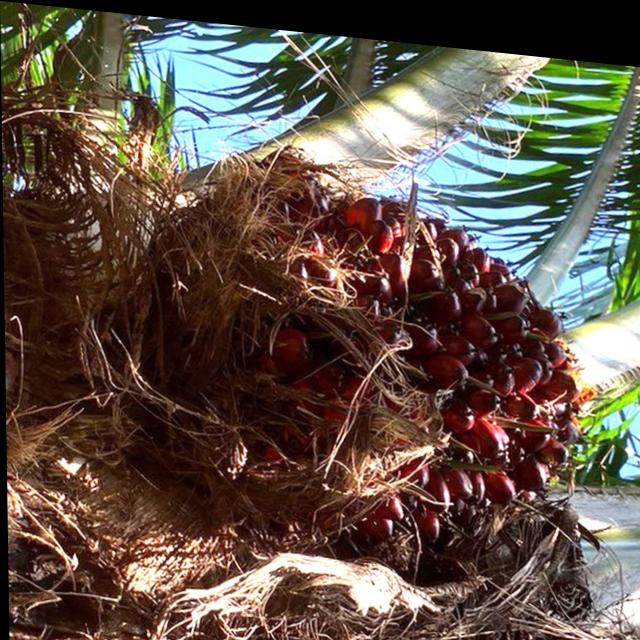ripe: (168, 125, 599, 577)
